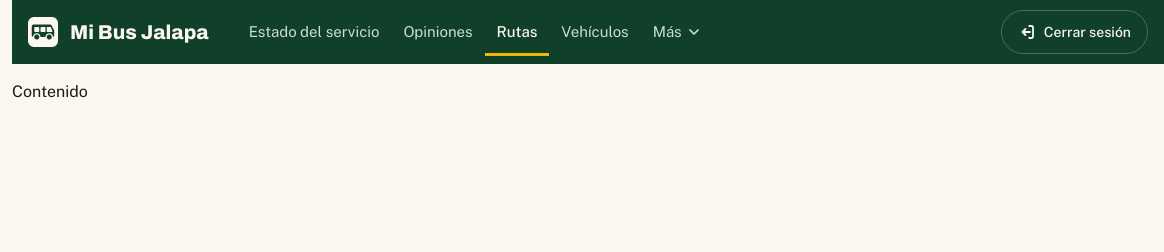
it: Menú del panel municipal (responsive) › en la cabecera cada sección aparece una sola vez, con «Más» para las secundarias
This screenshot has width=1164, height=252.
Expected: the number of links "Estado del servicio" is 1, [249,23,379,40]
Expected: the number of links "Opiniones" is 1, [403,23,473,40]
Step 1. Click the button "Más" → {"x": 677, "y": 32}, box [641,8,714,56]
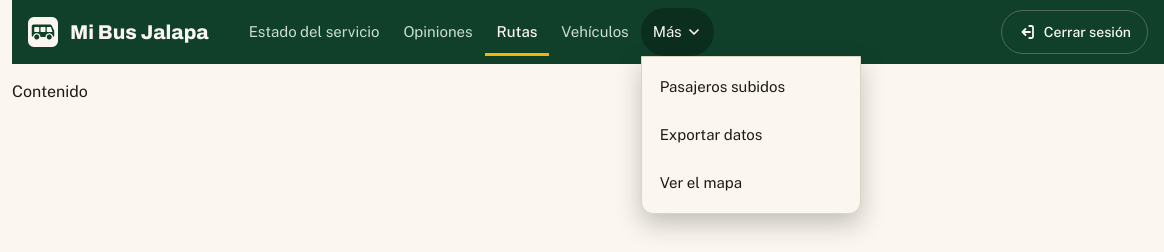
Result: the button "Más" is expanded at [641,8,714,56]
Step 2. Press Escape
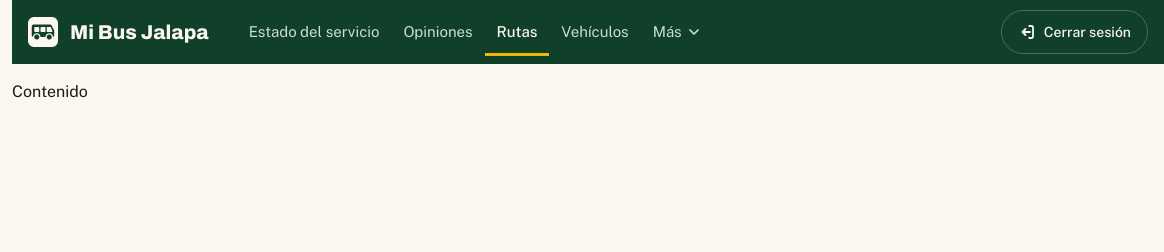
Result: the button "Más" is collapsed at [641,8,714,56]
